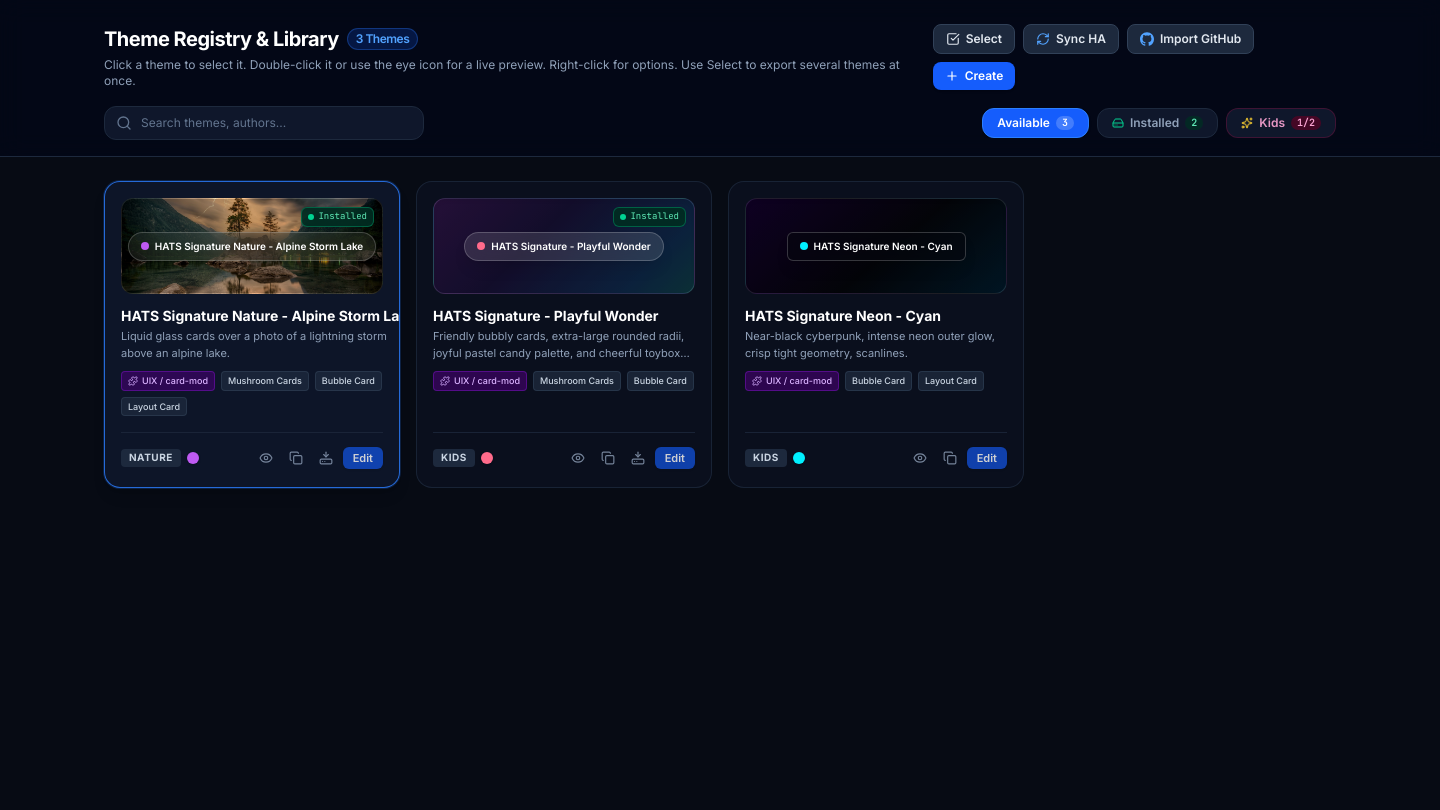
ThemeGallery selection in the Home Assistant app › keeps Export Selected disabled until something is selected
Step 1. Click the button "Select" → (974, 39), box left=933, top=24, right=1015, bottom=54
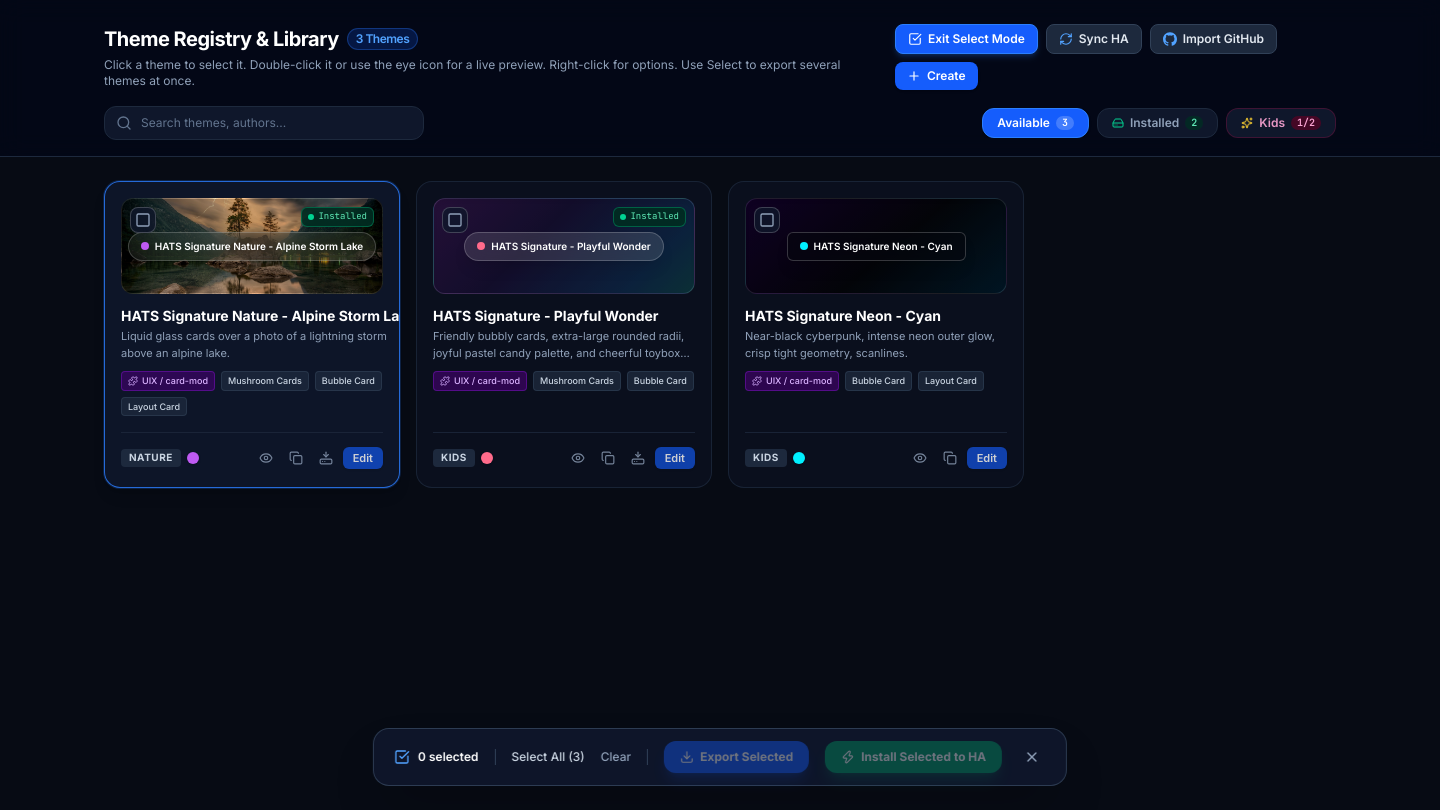
Expected: the button "Export Selected" is disabled, left=664, top=741, right=809, bottom=773
